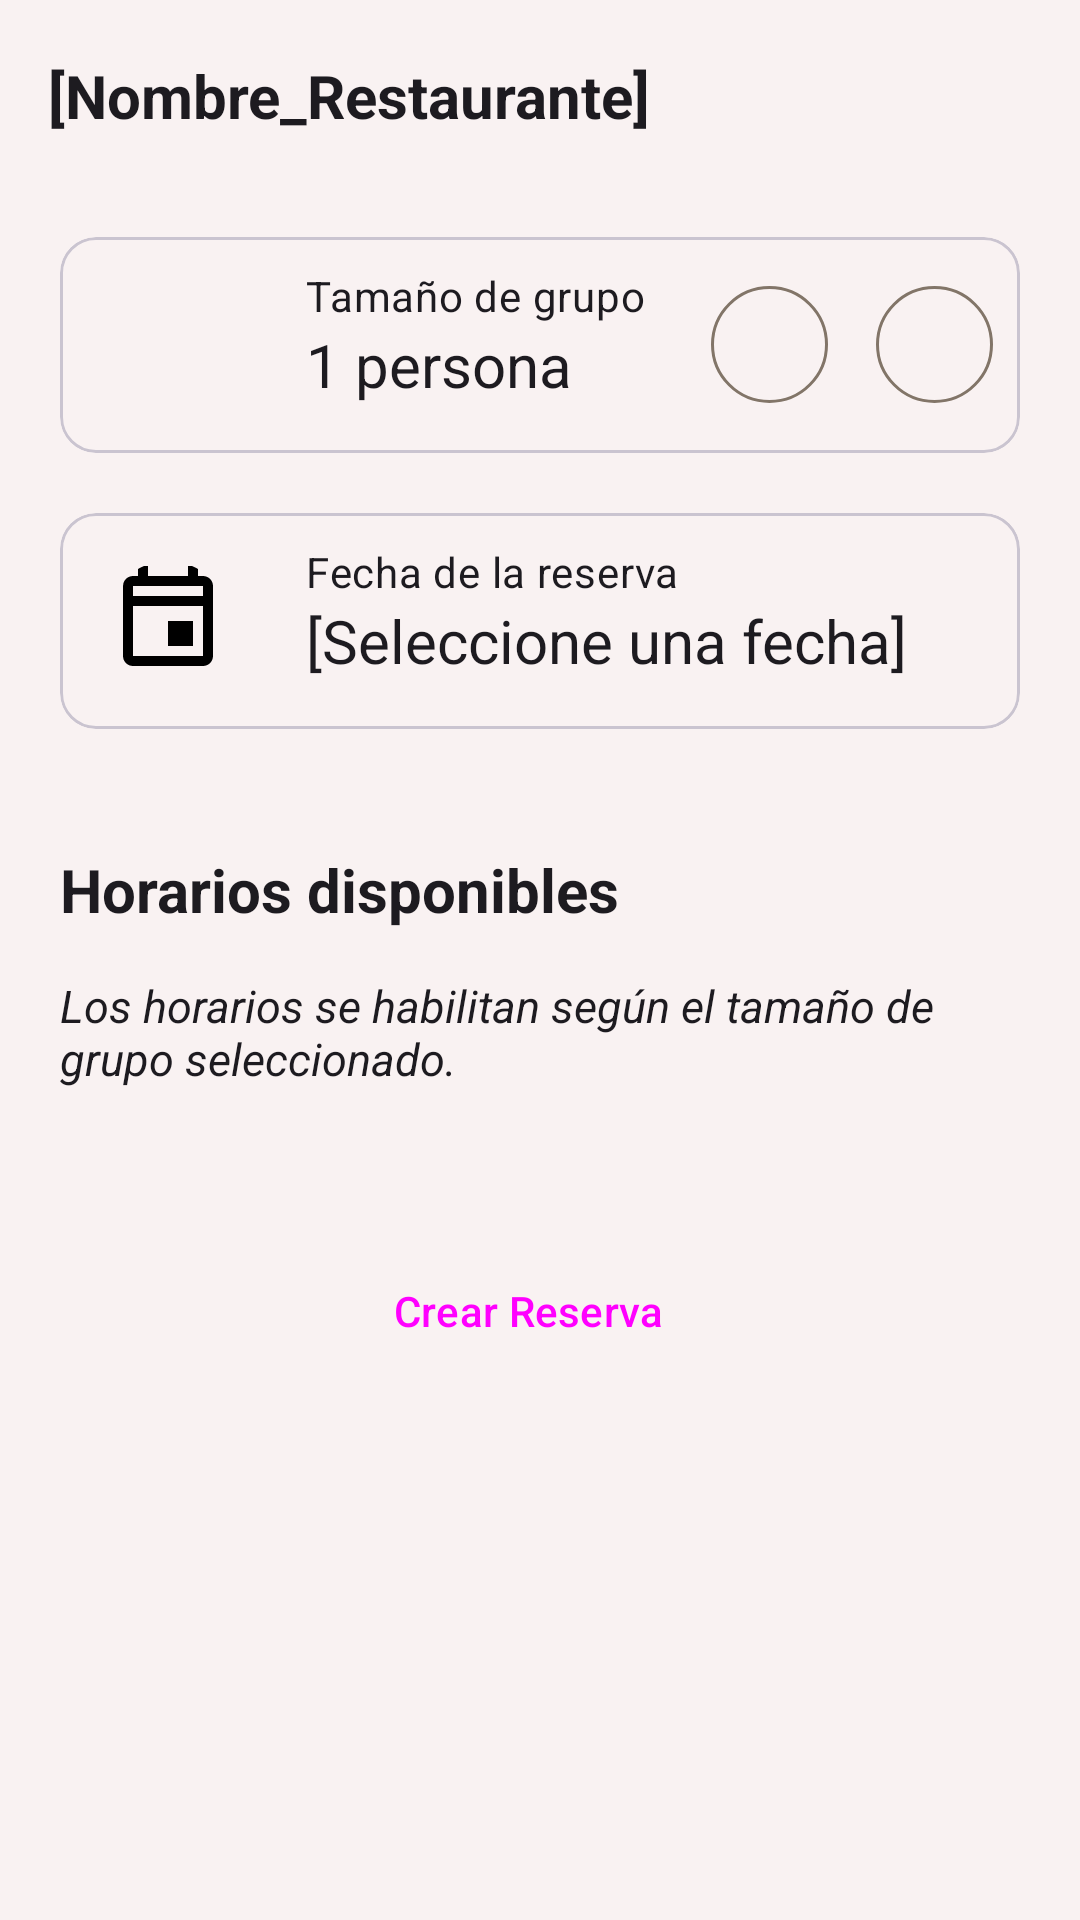

Point at icon controls on the screen. Image size 1080x1920, points as [x,y].
Imagen de un calendario: [168,616]
